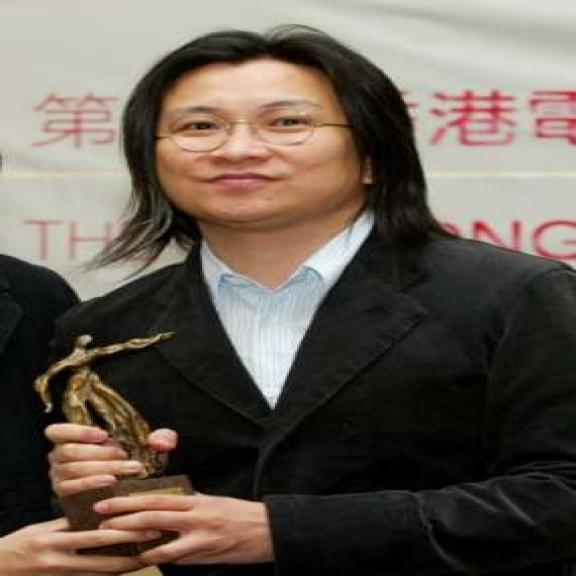face: (148, 68, 384, 230)
